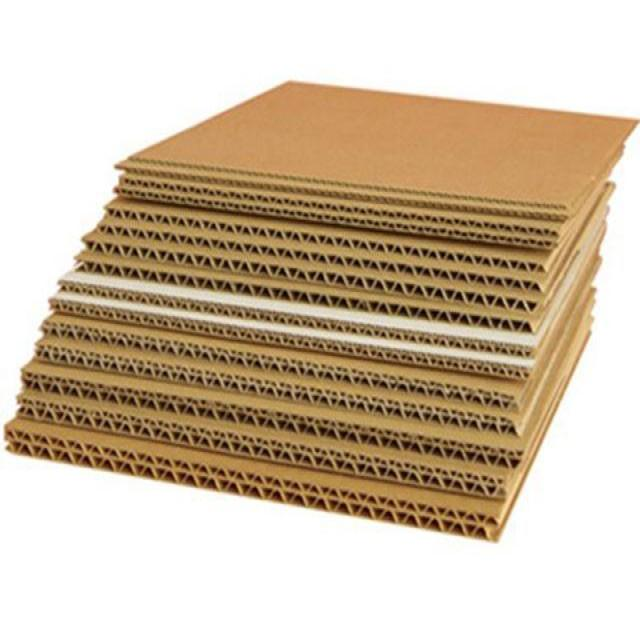cardboard: (6, 79, 640, 544)
